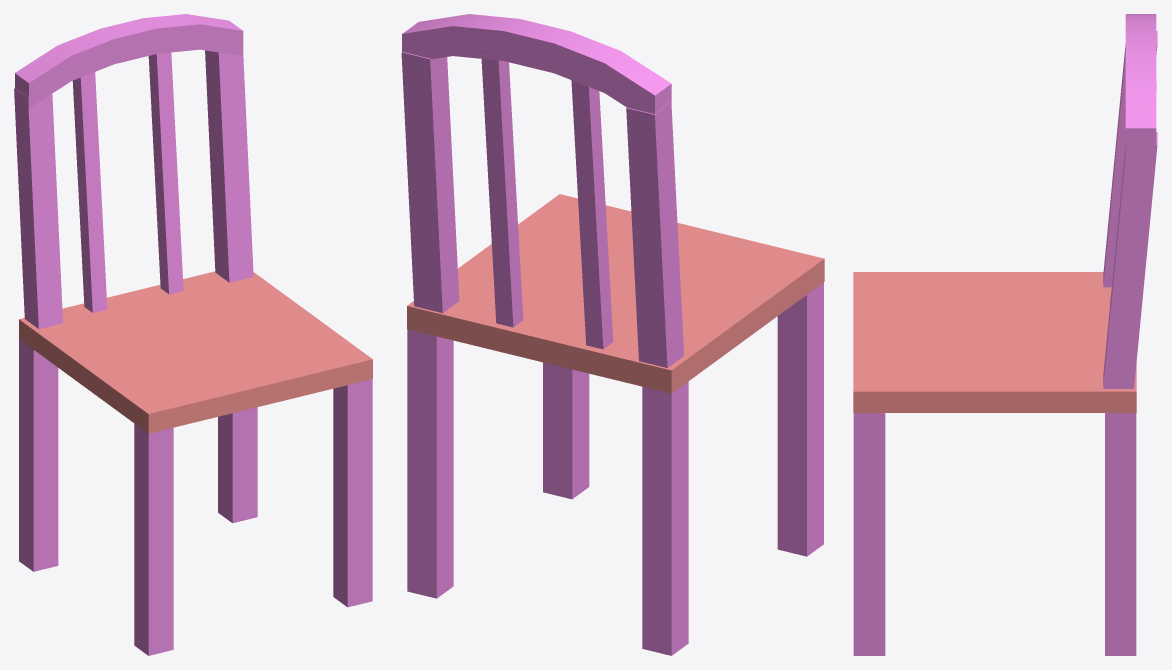
The model's file is chairFbx.FBX.
The picture shows the model from 3 angles, left to right: view 1: azimuth 30°, elevation 25°; view 2: azimuth 150°, elevation 25°; view 3: azimuth 270°, elevation 25°; orthographic projection. The views are drawn at different scales.
Parts seen in each view (by area): view 1: Box001, Box005, Box006, Box004, Box007, Box008, Box002, Box010, Box009, Box003; view 2: Box001, Box002, Box003, Box005, Box008, Box006, Box007, Box010, Box009, Box004; view 3: Box001, Box007, Box004, Box003, Box008, Box006.
Boxes of the visible parts, x1,y1,x2,y2 form: Box001: (19, 271, 372, 433); Box005: (134, 423, 173, 655); Box006: (14, 88, 62, 328); Box004: (333, 379, 372, 607); Box007: (205, 50, 253, 282); Box008: (15, 14, 243, 108); Box002: (19, 339, 58, 571); Box010: (148, 52, 183, 294); Box009: (72, 72, 107, 312); Box003: (218, 407, 257, 523); Box001: (407, 194, 824, 393); Box002: (642, 381, 688, 655); Box003: (407, 329, 453, 598); Box005: (777, 282, 823, 556); Box008: (402, 14, 671, 114); Box006: (626, 100, 683, 367); Box007: (401, 52, 459, 313); Box010: (481, 50, 523, 327); Box009: (571, 72, 613, 349); Box004: (543, 362, 589, 499); Box001: (853, 272, 1136, 412); Box007: (1103, 132, 1157, 388); Box004: (853, 413, 885, 655); Box003: (1105, 413, 1136, 655); Box008: (1125, 14, 1156, 154); Box006: (1103, 31, 1157, 287).
Size of the model in its own units: 17.72 by 38.01 by 19.02.
